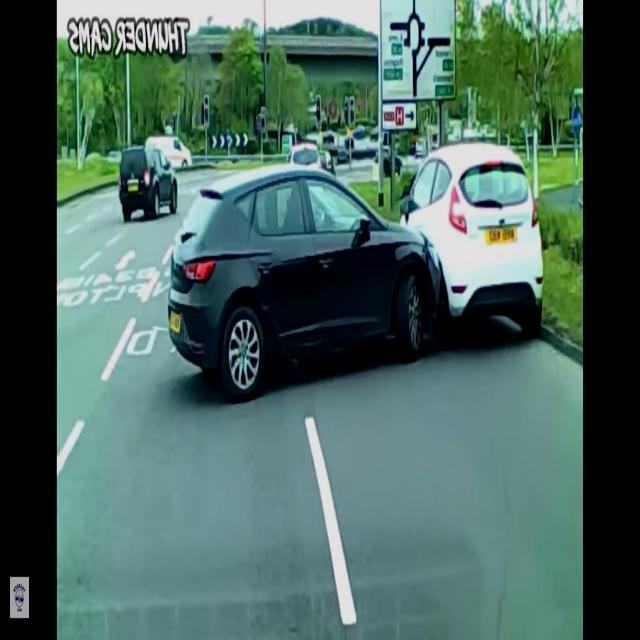accident: (168, 144, 544, 396)
non-accident: (118, 132, 190, 222)
